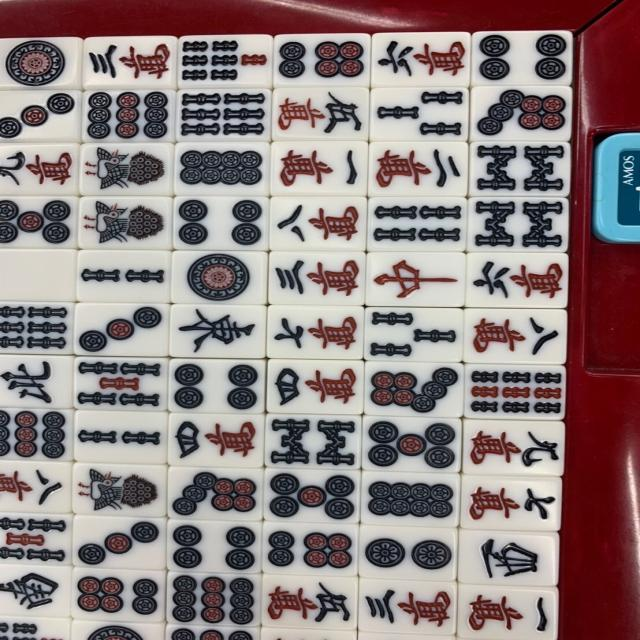bamboos_1: (78, 142, 174, 197), (77, 194, 173, 248), (72, 462, 168, 516)
bamboos_2: (74, 248, 170, 303), (73, 411, 168, 465)
bamboos_3: (365, 306, 461, 361), (370, 88, 466, 142)
bamboos_4: (368, 198, 464, 252)
bamboos_5: (72, 357, 168, 412)
bamboos_6: (176, 88, 272, 142)
bamboos_7: (178, 34, 275, 88)
bamboos_8: (466, 142, 571, 197), (468, 198, 572, 252), (265, 413, 361, 468)
bamboos_9: (462, 364, 567, 418)
characters_1: (456, 585, 561, 637), (271, 142, 367, 196)
characters_2: (368, 141, 464, 195)
characters_3: (359, 579, 456, 634), (266, 249, 362, 304), (82, 35, 178, 89)
characters_4: (169, 413, 265, 468), (268, 359, 364, 413)
characters_5: (263, 573, 359, 628), (272, 87, 369, 141)
characters_6: (464, 254, 569, 308), (371, 31, 472, 87)
characters_7: (458, 476, 563, 530), (266, 304, 363, 358)
characters_8: (463, 307, 568, 362), (268, 196, 364, 250)
characters_9: (462, 420, 568, 474)
circles_1: (170, 249, 266, 304)
circles_2: (358, 524, 454, 578)
circles_3: (73, 303, 169, 358), (71, 516, 167, 570)
circles_4: (470, 29, 575, 84), (169, 358, 265, 413), (166, 520, 262, 575), (171, 196, 267, 250)
circles_5: (264, 467, 359, 522), (364, 415, 459, 469)
circles_6: (73, 570, 169, 625), (264, 522, 360, 576), (274, 33, 369, 87)
circles_7: (470, 86, 575, 141), (168, 466, 265, 520), (365, 361, 462, 415)
circles_8: (360, 470, 457, 525), (174, 142, 270, 196)
circles_9: (166, 570, 262, 625), (81, 89, 178, 143)
east: (169, 305, 265, 359)
red: (367, 254, 463, 308)
west: (457, 532, 562, 587)
